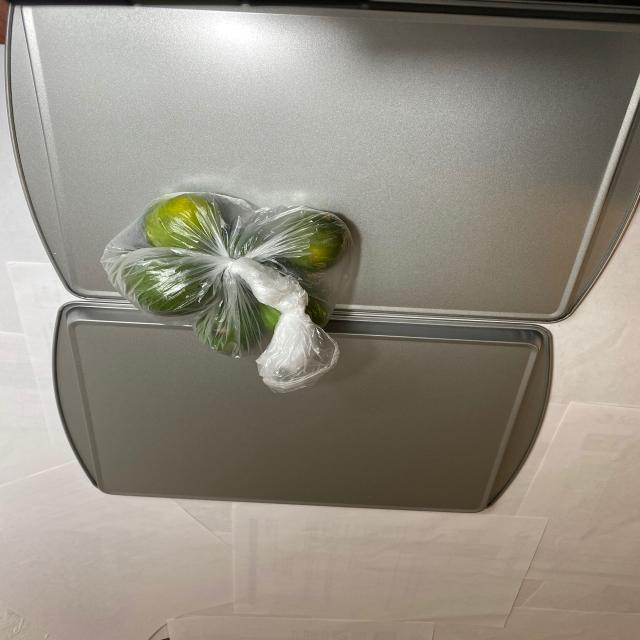lemon: (115, 190, 352, 351)
